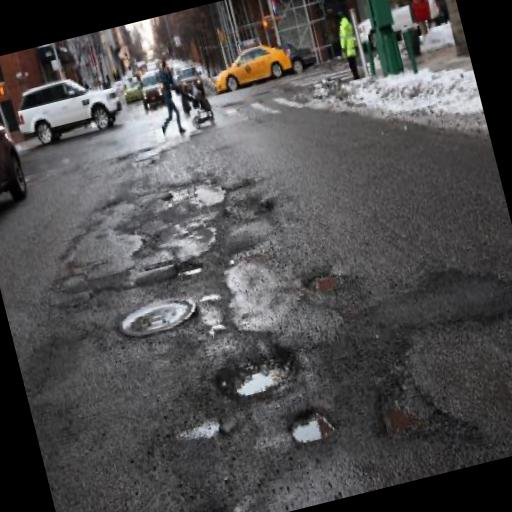pothole: (214, 342, 304, 408), (367, 380, 429, 447), (281, 396, 340, 451), (299, 259, 356, 300), (176, 257, 205, 278)
